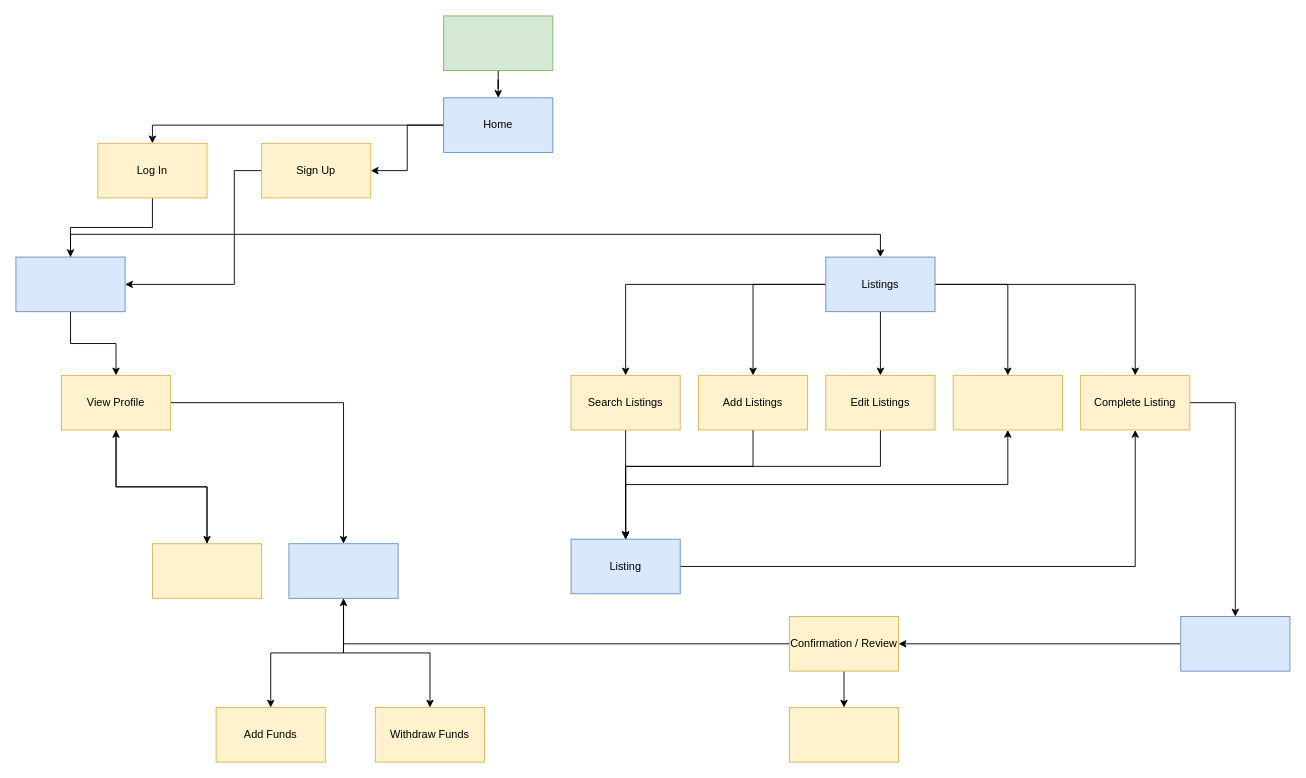
The diagram is 1306 pixels wide and 778 high, and some of its shapes have lost their labels. Each missing label, with the centre of its shape:
Account: (70,284)
Account Wallet: (343,570)
Add Notes: (844,734)
Edit Profile: (207,570)
Payment: (1235,643)
Remove Listings: (1007,402)
splash Screen: (498,43)
